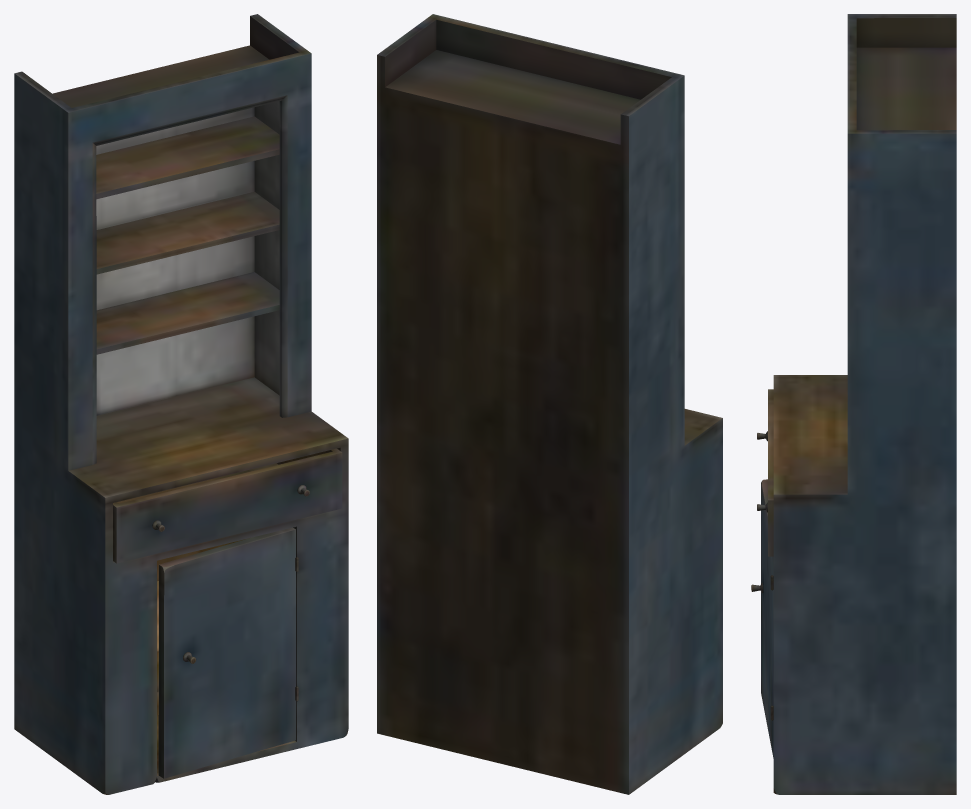
The picture shows the model from 3 angles, left to right: view 1: azimuth 30°, elevation 25°; view 2: azimuth 150°, elevation 25°; view 3: azimuth 270°, elevation 25°; orthographic projection. The views are drawn at different scales.
Visible parts, largest first — view 1: painted_wooden_cabinet_02, painted_wooden_cabinet_02_door, painted_wooden_cabinet_02_drawer; view 2: painted_wooden_cabinet_02; view 3: painted_wooden_cabinet_02, painted_wooden_cabinet_02_door, painted_wooden_cabinet_02_drawer.
Part boxes in pixels (x1=…): painted_wooden_cabinet_02: x1=14, y1=14, x2=348, y2=794; painted_wooden_cabinet_02_door: x1=158, y1=527, x2=295, y2=778; painted_wooden_cabinet_02_drawer: x1=113, y1=448, x2=342, y2=563; painted_wooden_cabinet_02: x1=377, y1=14, x2=722, y2=794; painted_wooden_cabinet_02: x1=770, y1=14, x2=956, y2=794; painted_wooden_cabinet_02_door: x1=751, y1=479, x2=773, y2=758; painted_wooden_cabinet_02_drawer: x1=757, y1=389, x2=773, y2=556.
Bounding box in the file's own units: 0.9969 × 2.57 × 0.7224.
1 material, 1 textured.
